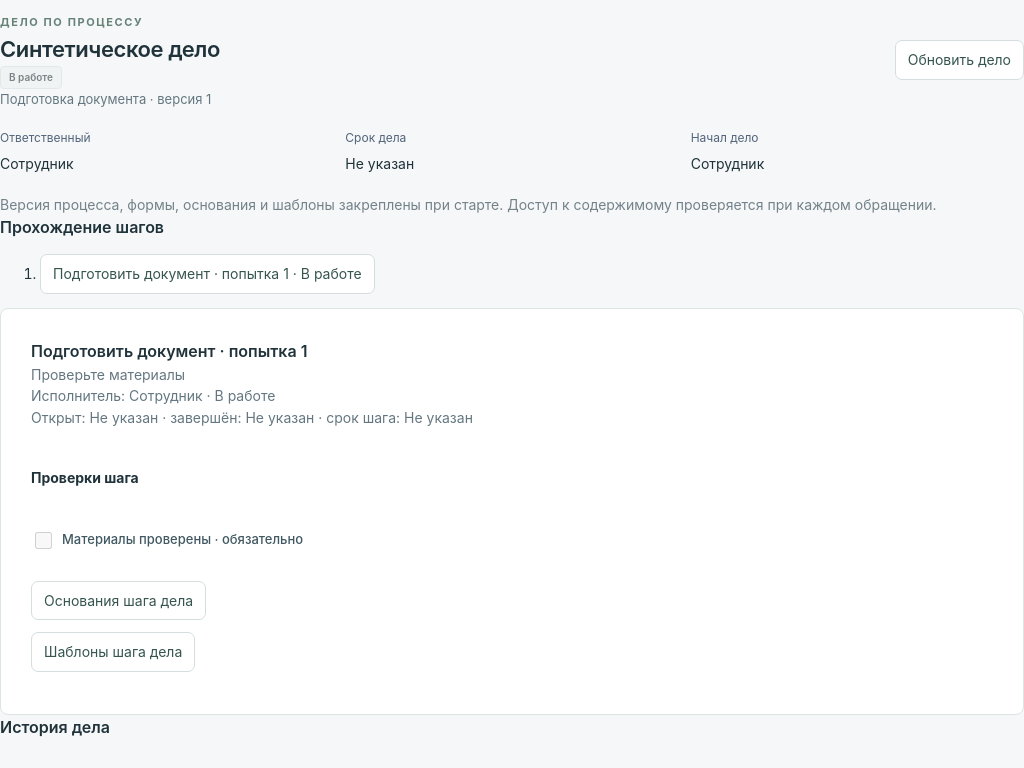
Test case: keeps reader execution and restricted bases read only without leaking extra placeholder content
This screenshot has width=1024, height=768.
Click the button "Основания шага дела" at {"x": 119, "y": 600}, box [31,581,206,620]
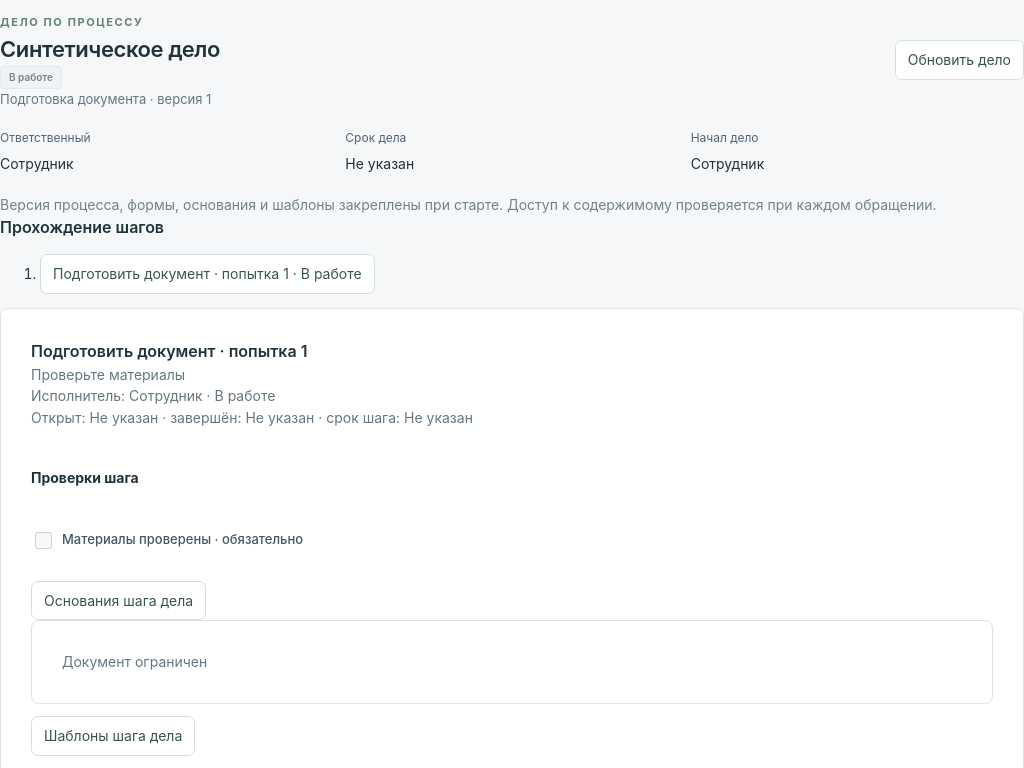
expect the checkbox labelled "Материалы проверены · обязательно" is disabled: met, box [35,532,52,549]
expect the text "Документ ограничен" is shown: met, box [62,653,207,670]
